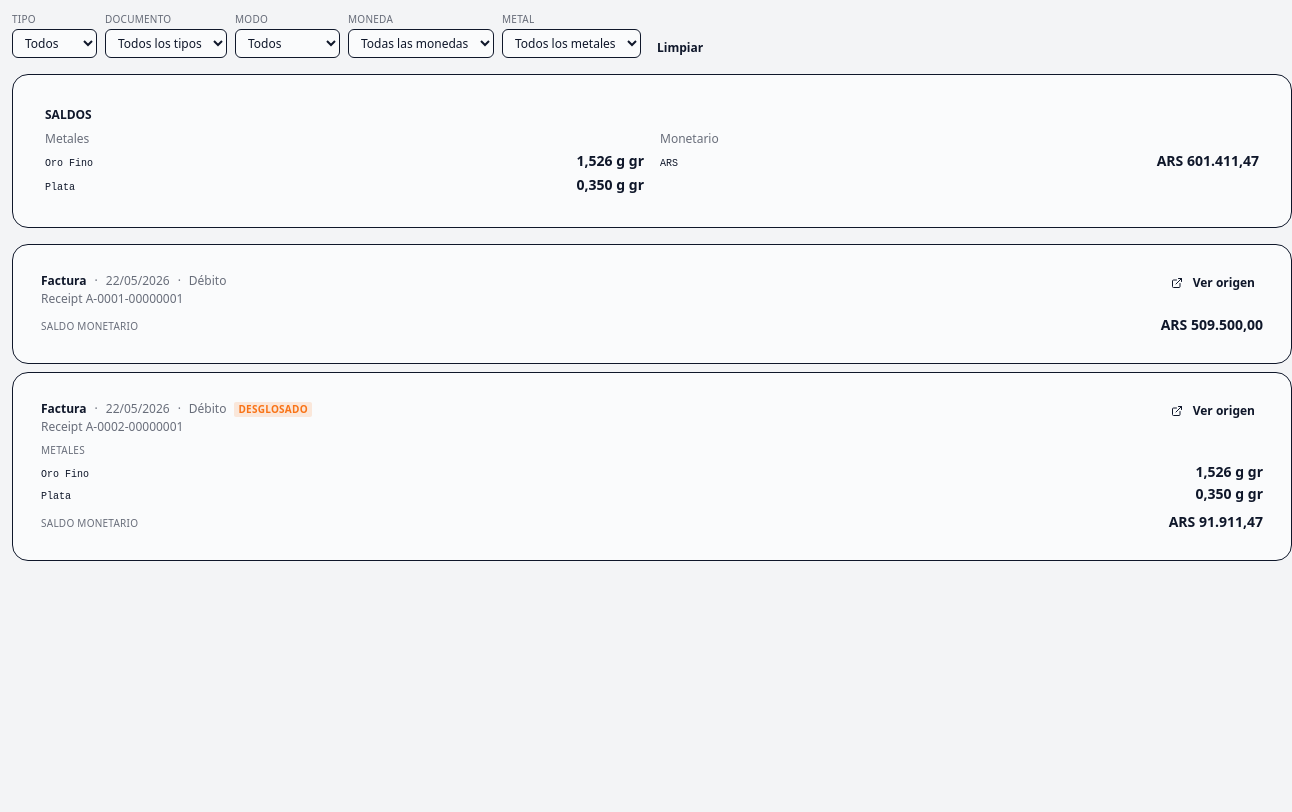
EntityBalanceMovementsView — filtros (Fase 4.4) › filtro por balanceMode=BREAKDOWN oculta los UNIFIED
This screenshot has width=1292, height=812.
Select "Desglosado" in the dropdown with test id "filter-balance-mode": [288, 44] box [235,29,340,58]
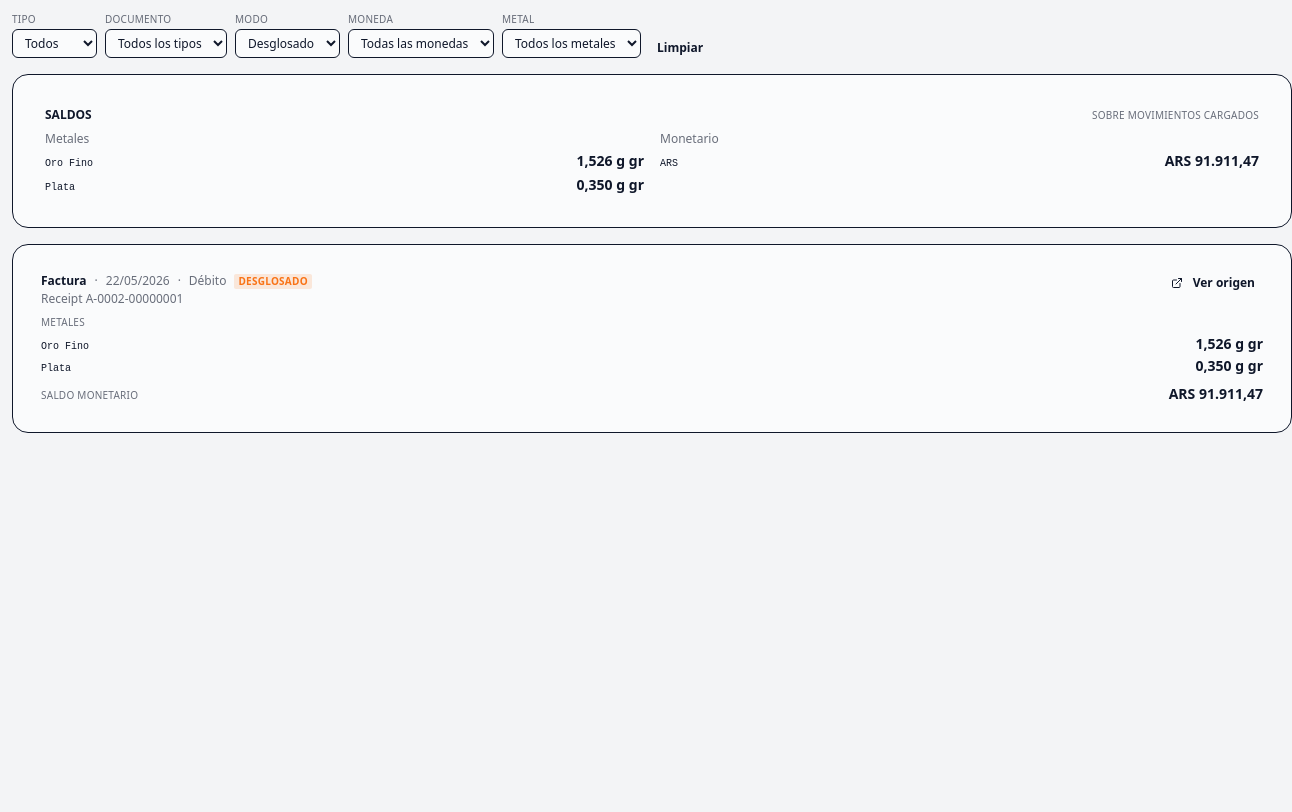
Expected: the element with test id "movement-card-mov-b1" is shown, [12,244,1291,433]
Result: the element with test id "movement-card-mov-u1" is gone
